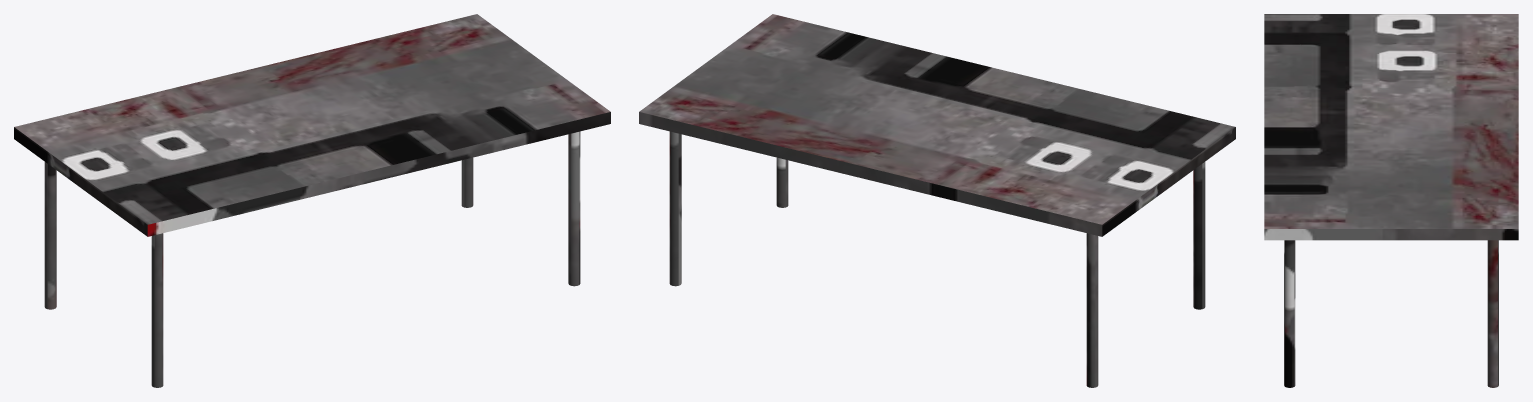
The model's file is diner-table.glb.
3 renders of one model, left to right at view 1: azimuth 30°, elevation 25°; view 2: azimuth 150°, elevation 25°; view 3: azimuth 270°, elevation 25°, orthographic. The views are drawn at different scales.
Visible parts, largest first — view 1: SM_ButcherTable_Kitchen_0; view 2: SM_ButcherTable_Kitchen_0; view 3: SM_ButcherTable_Kitchen_0.
Part boxes in pixels (left/top/right/bottom): SM_ButcherTable_Kitchen_0: left=14, top=14, right=610, bottom=387; SM_ButcherTable_Kitchen_0: left=639, top=14, right=1235, bottom=387; SM_ButcherTable_Kitchen_0: left=1264, top=14, right=1518, bottom=387.
Bounding box in the file's own units: 2 × 0.7264 × 0.9998.
Materials: 1 (1 with a texture image).
